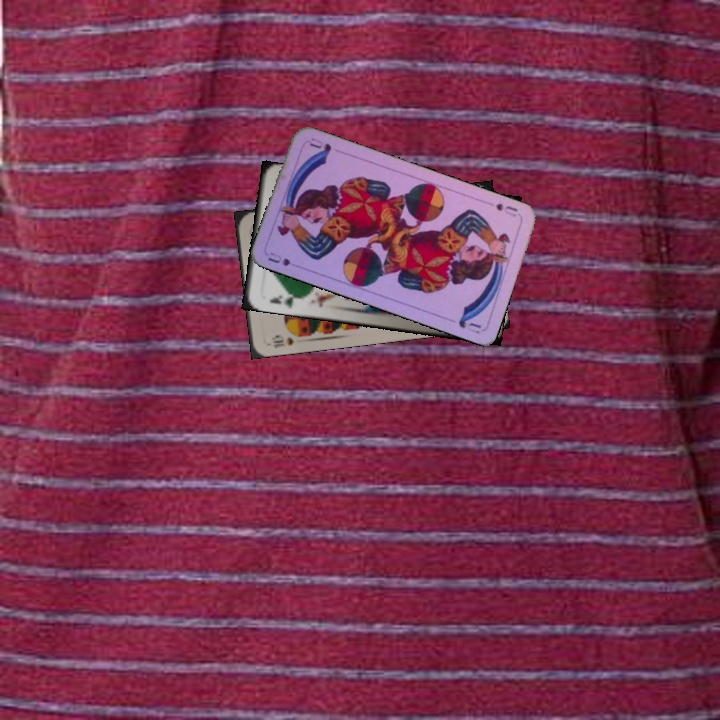GK: (266, 290, 300, 310)
S10: (268, 329, 305, 351)
SU: (264, 248, 304, 269), (483, 198, 520, 219)
